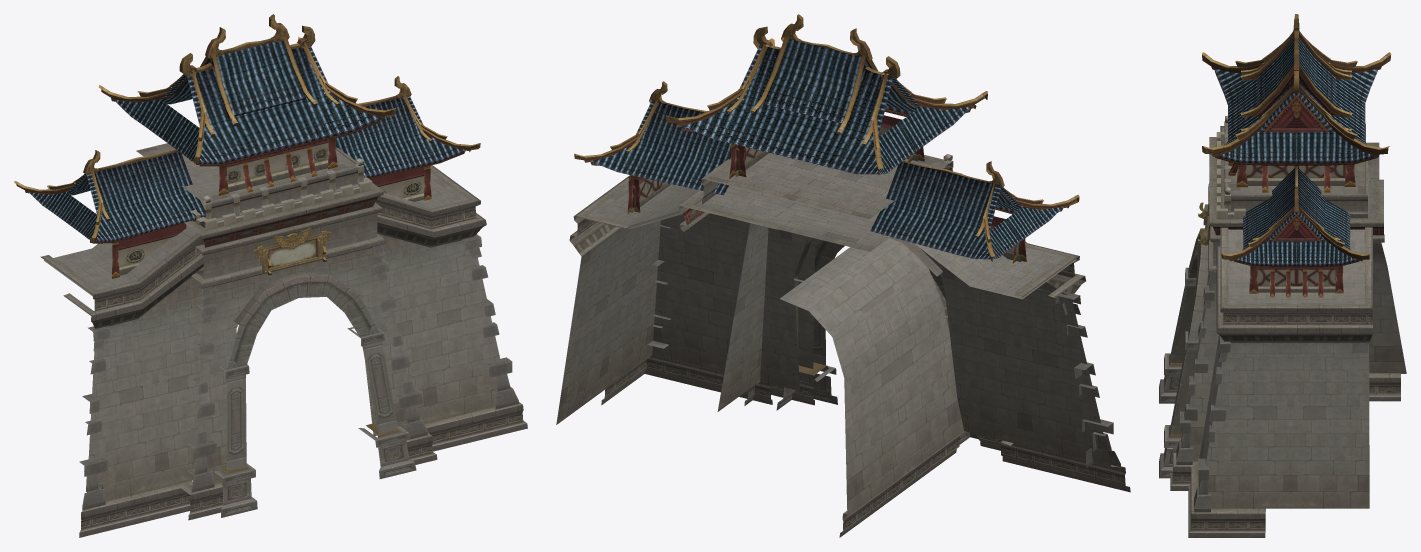
The model's file is cj_luoyang_chengqiang01_55_30_7642out.fbx.
3 renders of one model, left to right at view 1: azimuth 30°, elevation 25°; view 2: azimuth 150°, elevation 25°; view 3: azimuth 270°, elevation 25°, orthographic. The views are drawn at different scales.
Parts seen in each view (by area): view 1: 0001_cj_luoyang_chengqiang01, 0000_cj_luoyang_chengqiang01, 0002_cj_luoyang_chengqiang01; view 2: 0001_cj_luoyang_chengqiang01, 0002_cj_luoyang_chengqiang01, 0000_cj_luoyang_chengqiang01; view 3: 0001_cj_luoyang_chengqiang01, 0000_cj_luoyang_chengqiang01, 0002_cj_luoyang_chengqiang01.
Boxes of the visible parts, left/top/right/bottom form: 0001_cj_luoyang_chengqiang01: left=40, top=143, right=527, bottom=537; 0000_cj_luoyang_chengqiang01: left=14, top=14, right=518, bottom=517; 0002_cj_luoyang_chengqiang01: left=29, top=40, right=465, bottom=243; 0001_cj_luoyang_chengqiang01: left=556, top=153, right=1130, bottom=537; 0002_cj_luoyang_chengqiang01: left=590, top=39, right=1063, bottom=259; 0000_cj_luoyang_chengqiang01: left=574, top=14, right=1120, bottom=467; 0001_cj_luoyang_chengqiang01: left=1170, top=123, right=1406, bottom=537; 0000_cj_luoyang_chengqiang01: left=1159, top=14, right=1391, bottom=512; 0002_cj_luoyang_chengqiang01: left=1214, top=37, right=1378, bottom=267.
Size of the model in its own units: 11.44 by 10.26 by 5.67.
